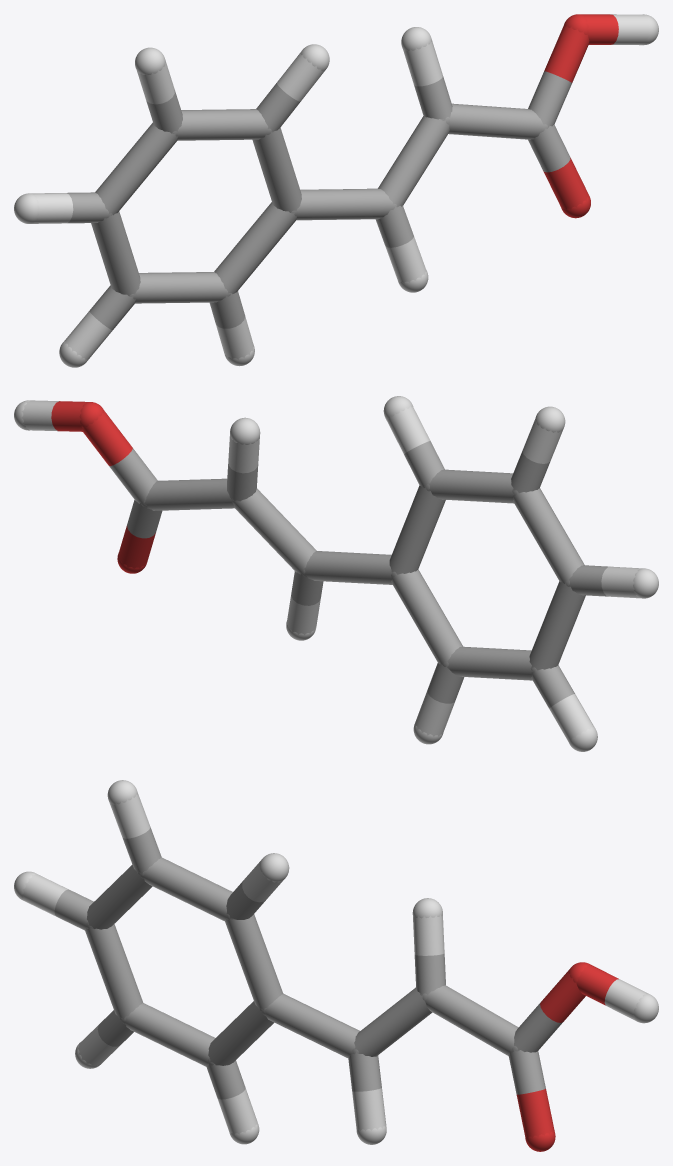
The model's file is 444539-sticks-color-vis_NIH3D.glb.
3 renders of one model, top to bottom at view 1: azimuth 30°, elevation 25°; view 2: azimuth 150°, elevation 25°; view 3: azimuth 330°, elevation 25°, orthographic.
Parts seen in each view (by area): view 1: bonds, atoms; view 2: bonds, atoms; view 3: bonds, atoms.
Boxes of the visible parts, x1,y1,x2,y2 form: bonds: (31, 14, 650, 360); atoms: (14, 14, 658, 367); bonds: (21, 400, 641, 742); atoms: (14, 396, 658, 751); bonds: (21, 792, 648, 1139); atoms: (14, 780, 658, 1151).
Size of the model in its own units: 9.7 by 5.08 by 1.1.
